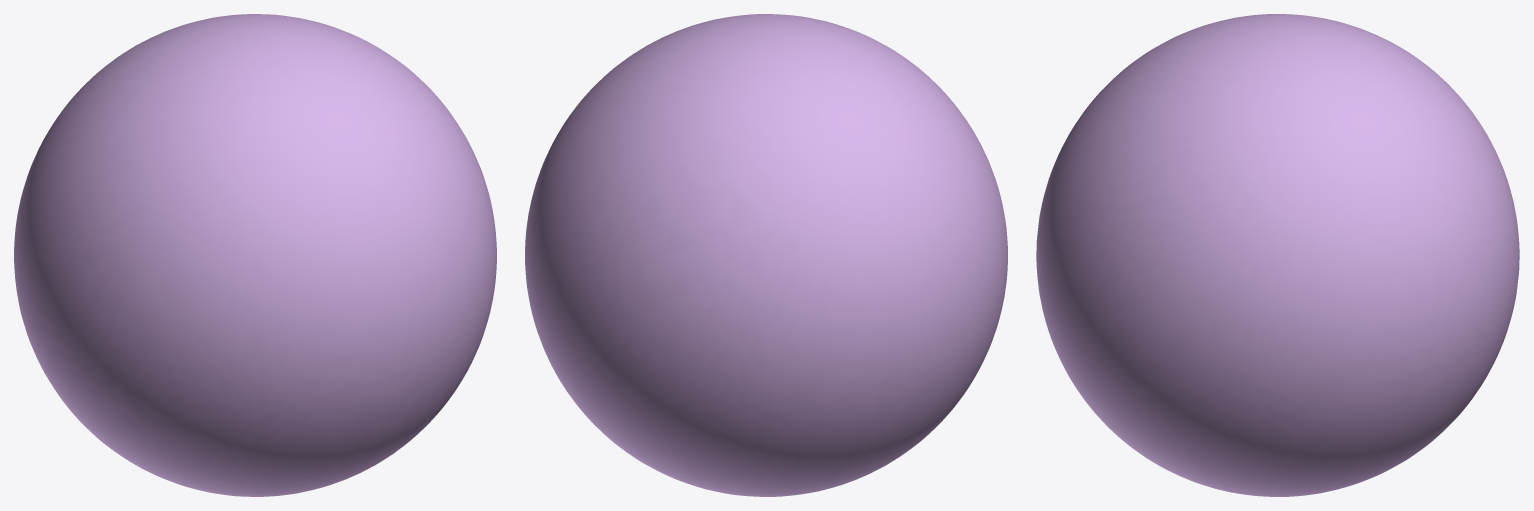
The model's file is purpleplanet.gltf.
The picture shows the model from 3 angles, left to right: view 1: azimuth 30°, elevation 25°; view 2: azimuth 150°, elevation 25°; view 3: azimuth 270°, elevation 25°; orthographic projection.
Parts seen in each view (by area): view 1: Clouds.002; view 2: Clouds.002; view 3: Clouds.002.
Part boxes in pixels (x1,y1,x2,y2): Clouds.002: (14, 14, 496, 496); Clouds.002: (525, 14, 1007, 496); Clouds.002: (1036, 14, 1519, 496).
Bounding box in the file's own units: 2.01 × 2.01 × 2.01.
